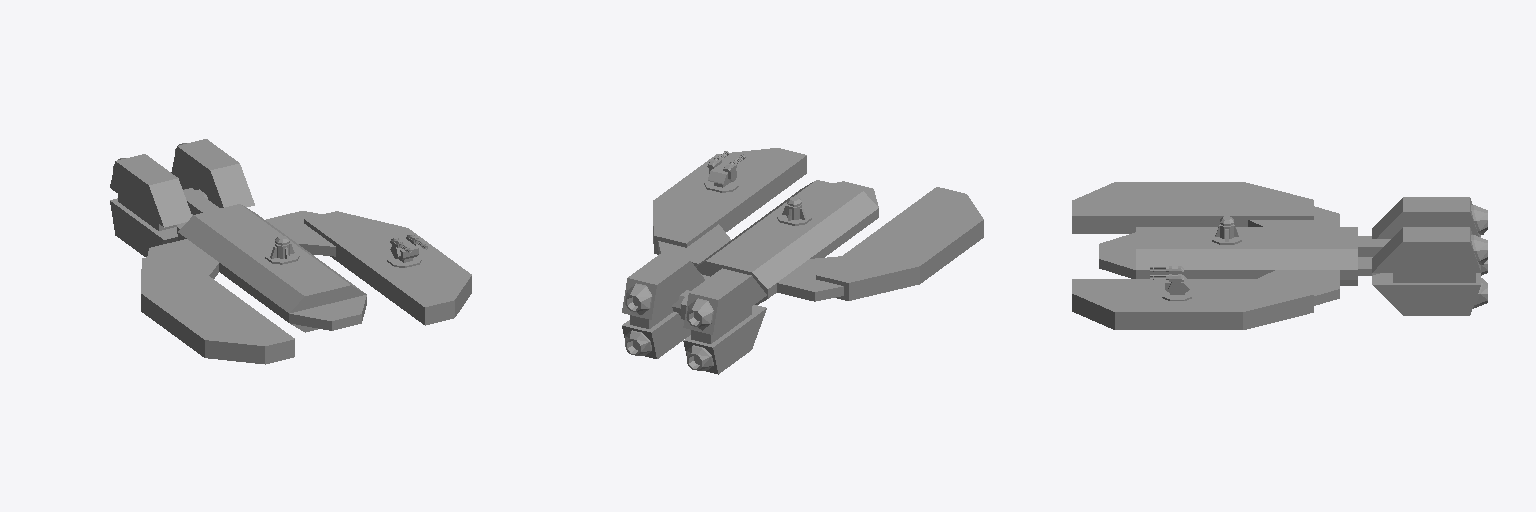
File: PizzaShip.obj
3 views of the same model, side by side, from view 1: azimuth 30°, elevation 25°; view 2: azimuth 150°, elevation 25°; view 3: azimuth 270°, elevation 25° (orthographic).
Parts seen in each view (by area): view 1: PizzaShip_Cube.004, Turret_Cube.001; view 2: PizzaShip_Cube.004, Turret_Cube.001; view 3: PizzaShip_Cube.004, Turret_Cube.001.
Boxes of the visible parts, x1,y1,x2,y2 form: PizzaShip_Cube.004: [110, 139, 471, 364]; Turret_Cube.001: [387, 233, 427, 267]; PizzaShip_Cube.004: [622, 148, 983, 374]; Turret_Cube.001: [704, 151, 745, 192]; PizzaShip_Cube.004: [1072, 182, 1487, 329]; Turret_Cube.001: [1150, 266, 1191, 300].
Bounding box in the file's own units: 12.82 × 3.47 × 17.3.